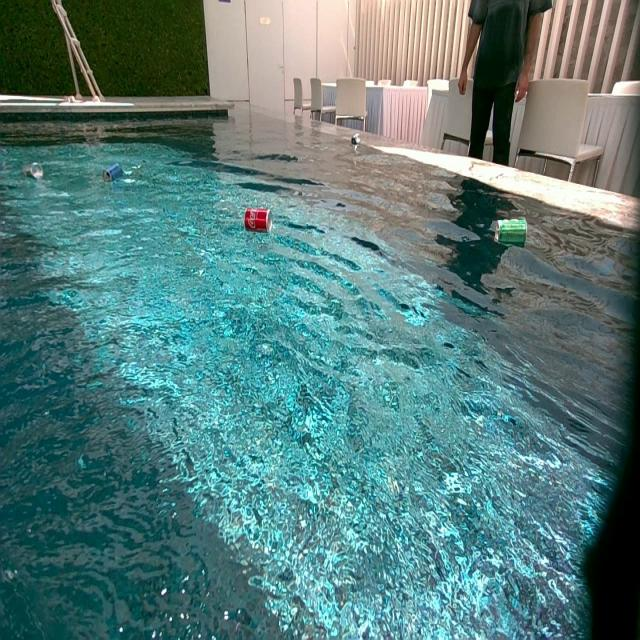Cans: (494, 217, 526, 246), (246, 208, 274, 233), (104, 164, 124, 183), (27, 164, 43, 182), (352, 133, 360, 147)
